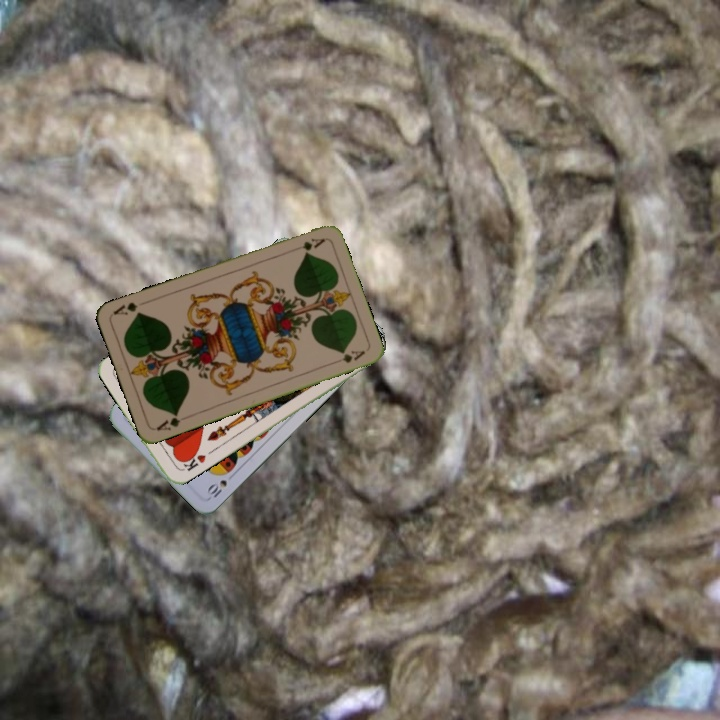GA: (152, 409, 191, 434), (298, 234, 328, 253)
HK: (176, 446, 209, 474)
S10: (203, 469, 237, 501)
